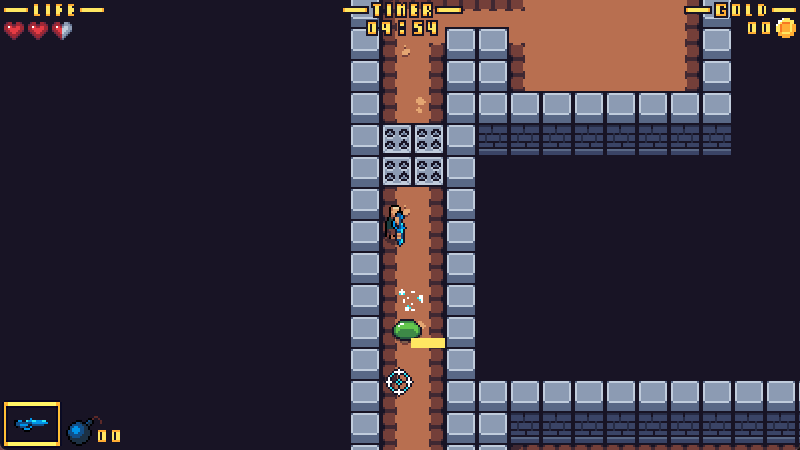aim: (385, 368, 413, 399)
enemy_slug: (390, 317, 423, 339)
player: (385, 202, 409, 248)
trap_warning: (383, 125, 445, 185)
